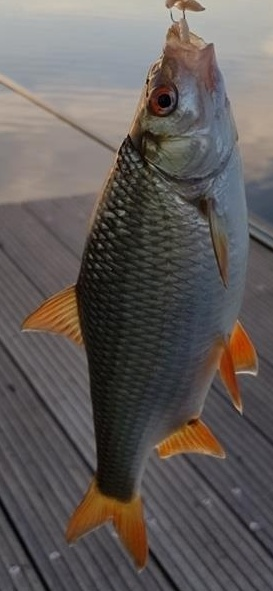Rutilus rutilus: (20, 20, 253, 571)
